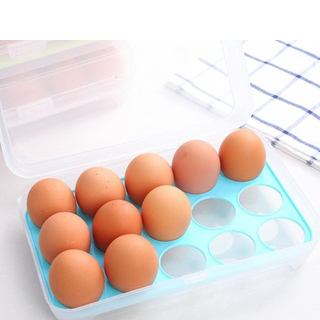egg: (26, 130, 267, 308)
